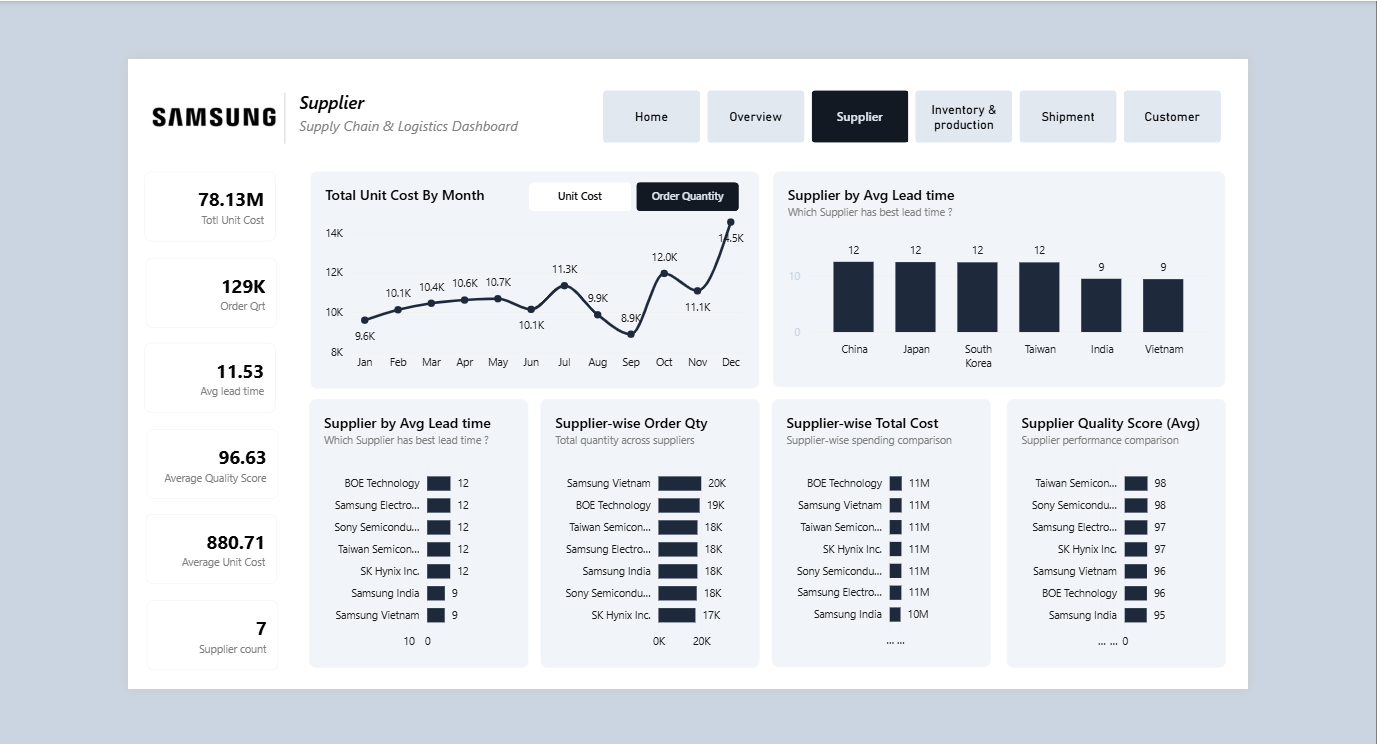

The page's visual inventory and layout, read from the dashboard file:
{"tool":"powerbi","page":{"name":"Supplier","canvas":[1280,720],"ordinal":2},"visuals":[{"type":"image","box":[16.5,36.9,156,58],"z":0},{"type":"shape","title":"Supplier","box":[196.4,36.4,263.6,62.7],"z":1000},{"type":"shape","box":[159.1,38.9,41.3,58],"z":2000},{"type":"cardVisual","fields":{"Data":["Measure Table.Order_Qrt"]},"box":[20,226.5,150,80],"z":3000},{"type":"cardVisual","fields":{"Data":["Measure Table.Avg_lead_time"]},"box":[19.2,324.5,150,80],"z":4000},{"type":"cardVisual","fields":{"Data":["Measure Table.Average_quality_score"]},"box":[20.8,422.4,150,80],"z":5000},{"type":"cardVisual","fields":{"Data":["CountNonNull(dim_supplier.supplier_id)"]},"box":[21.7,618.3,150,80],"z":6000},{"type":"cardVisual","fields":{"Data":["Measure Table.Average Unit Cost"]},"box":[20,520.4,150,80],"z":7000},{"type":"cardVisual","fields":{"Data":["Measure Table.Totl Unit Cost"]},"box":[18.6,128.6,150,80],"z":8000},{"type":"barChart","title":"Supplier by Avg Lead time ","fields":{"Y":["Measure Table.Avg_lead_time"],"Category":["dim_supplier.supplier_name"]},"box":[207.3,389.1,250,307.3],"z":9000},{"type":"barChart","title":"Supplier-wise Order Qty","fields":{"Y":["Measure Table.Order_Qrt"],"Category":["dim_supplier.supplier_name"]},"box":[470.9,389.1,250,307.3],"z":10000},{"type":"barChart","title":"Supplier-wise Total Cost","fields":{"Y":["Sum(fact_procurement.total_cost)"],"Category":["dim_supplier.supplier_name"]},"box":[736.4,389.1,250,306.4],"z":11000},{"type":"barChart","title":"Supplier Quality Score (Avg)","fields":{"Y":["Measure Table.Average_quality_score"],"Category":["dim_supplier.supplier_name"]},"box":[1003.6,389.1,250,307.3],"z":12000},{"type":"group","id":"g1","title":"Group 1","box":[208.2,128.2,512.7,248.2],"z":13000},{"type":"lineChart","title":"Total Unit Cost By Month","fields":{"Y":["Measure Table.Order_Qrt"],"Category":["dim_date.Month_sort"]},"box":[208.2,128.2,512.7,248.2],"z":13000,"group":"g1"},{"type":"columnChart","title":"Supplier by Avg Lead time ","fields":{"Y":["Measure Table.Avg_lead_time"],"Category":["dim_supplier.country"]},"box":[736.7,128.9,516.7,246.7],"z":14000},{"type":"pageNavigator","box":[542.9,35.7,711.4,60],"z":15000},{"type":"advancedSlicerVisual","fields":{"Values":["Cost_Qrt_Supply.Cost_Qrt_Supply"]},"box":[457.2,139.3,242.9,35],"z":15000,"group":"g1"}]}

Visuals, with their boxes on the page's 1280x720 design canvas (x1, y1, x2, y2). These are canvas units, not pixel positions in the 1377x744 screenshot, which may show the page scaled, cropped or inside an application window:
image: [16,37,172,95]
"Supplier" shape: [196,36,460,99]
shape: [159,39,200,97]
cardVisual - Measure Table.Order_Qrt: [20,226,170,306]
cardVisual - Measure Table.Avg_lead_time: [19,324,169,404]
cardVisual - Measure Table.Average_quality_score: [21,422,171,502]
cardVisual - CountNonNull(dim_supplier.supplier_id): [22,618,172,698]
cardVisual - Measure Table.Average Unit Cost: [20,520,170,600]
cardVisual - Measure Table.Totl Unit Cost: [19,129,169,209]
"Supplier by Avg Lead time " barChart: [207,389,457,696]
"Supplier-wise Order Qty" barChart: [471,389,721,696]
"Supplier-wise Total Cost" barChart: [736,389,986,696]
"Supplier Quality Score (Avg)" barChart: [1004,389,1254,696]
"Group 1" group: [208,128,721,376]
"Total Unit Cost By Month" lineChart: [208,128,721,376]
"Supplier by Avg Lead time " columnChart: [737,129,1253,376]
pageNavigator: [543,36,1254,96]
advancedSlicerVisual - Cost_Qrt_Supply.Cost_Qrt_Supply: [457,139,700,174]
